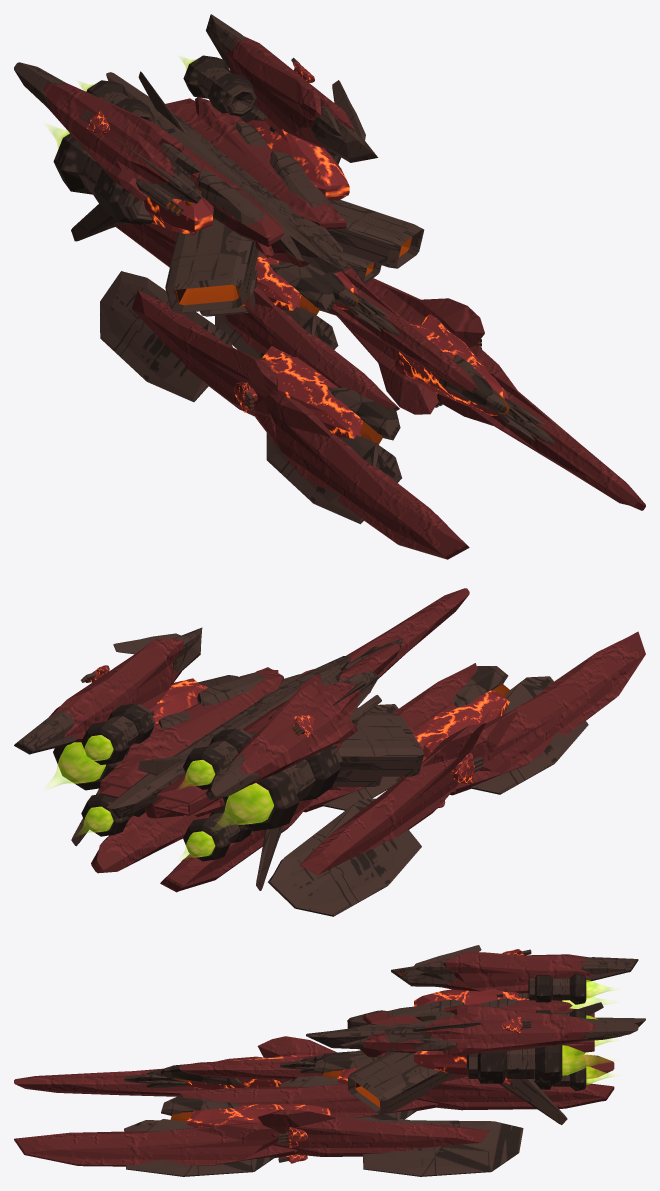
File: ira.gltf
3 renders of one model, top to bottom at view 1: azimuth 30°, elevation 25°; view 2: azimuth 150°, elevation 25°; view 3: azimuth 270°, elevation 25°, orthographic. The views are drawn at different scales.
Visible parts, largest first — view 1: body; view 2: body, engine; view 3: body, engine.
Part boxes in pixels (bbox=[...]): body: bbox=[14, 14, 645, 559]; body: bbox=[14, 588, 645, 916]; engine: bbox=[48, 735, 273, 859]; body: bbox=[14, 945, 645, 1176]; engine: bbox=[562, 980, 615, 1084].
Bounding box in the file's own units: 3.19 × 2.63 × 9.54.
5 materials, 5 textured.
